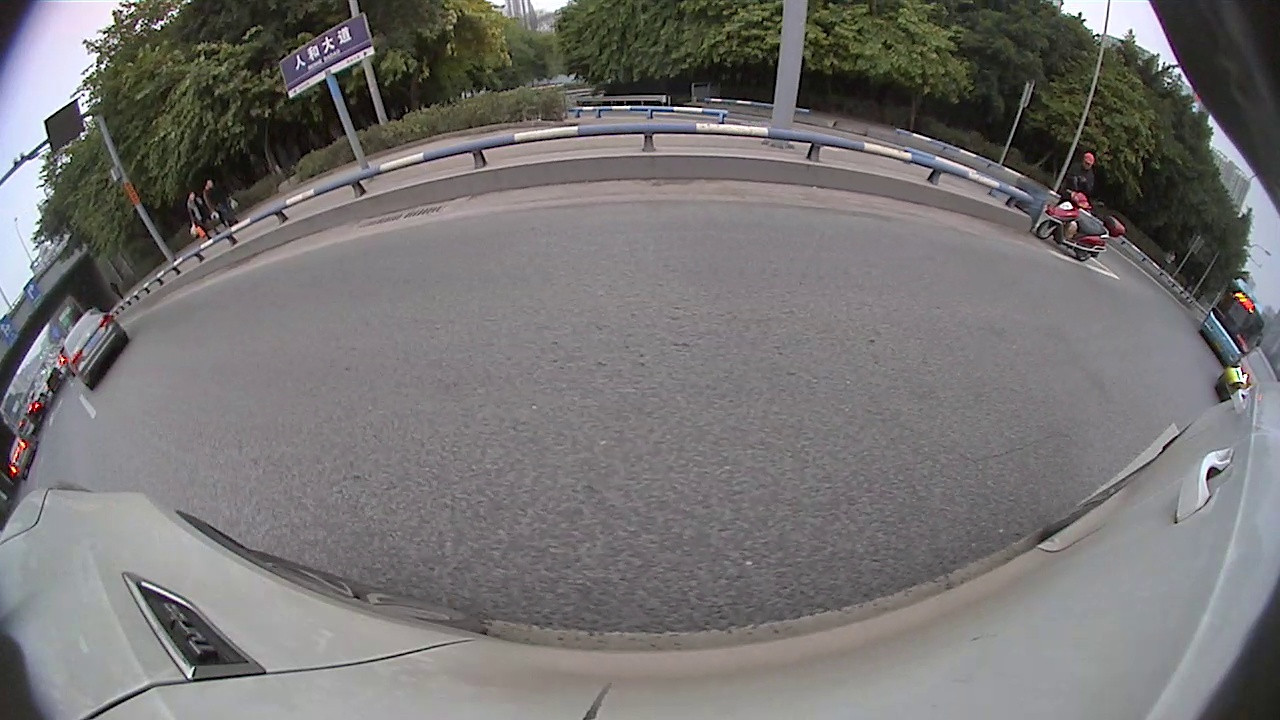bus: (1196, 277, 1268, 371)
car: (59, 304, 129, 389), (1213, 344, 1278, 405), (6, 431, 40, 482)
person: (205, 177, 240, 228), (1068, 150, 1096, 210), (186, 190, 215, 241)
rider: (1029, 186, 1128, 264)
